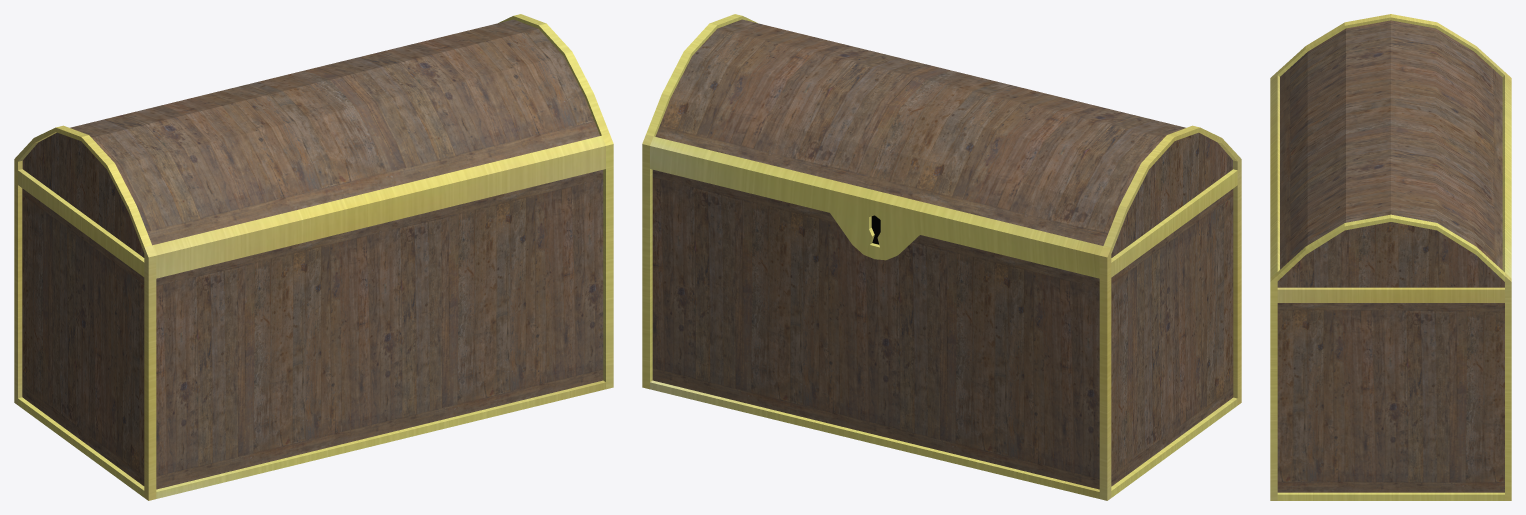
File: treasure-chest.fbx
3 views of the same model, side by side, from view 1: azimuth 30°, elevation 25°; view 2: azimuth 150°, elevation 25°; view 3: azimuth 270°, elevation 25° (orthographic). The views are drawn at different scales.
Parts seen in each view (by area): view 1: Cube.003; view 2: Cube.003; view 3: Cube.003.
Boxes of the visible parts, x1,y1,x2,y2 form: Cube.003: (14, 14, 613, 500); Cube.003: (642, 14, 1241, 500); Cube.003: (1270, 14, 1511, 500).
Bounding box in the file's own units: 400 × 259 × 200.
1 material, 1 textured.
